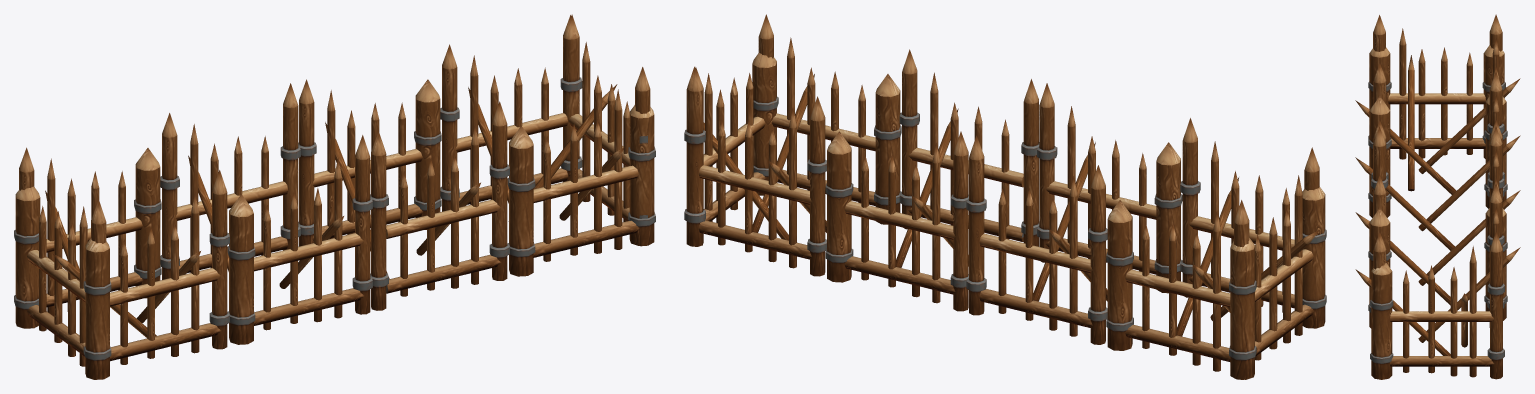
The model's file is Fence_Long_Model.fbx.
3 renders of one model, left to right at view 1: azimuth 30°, elevation 25°; view 2: azimuth 150°, elevation 25°; view 3: azimuth 270°, elevation 25°, orthographic. The views are drawn at different scales.
Parts seen in each view (by area): view 1: Fence_Long_Model; view 2: Fence_Long_Model; view 3: Fence_Long_Model.
Part boxes in pixels (x1,y1,x2,y2): Fence_Long_Model: (14,14,655,379); Fence_Long_Model: (684,14,1326,379); Fence_Long_Model: (1355,14,1520,379).
Bounding box in the file's own units: 14.82 × 4.24 × 4.35.
